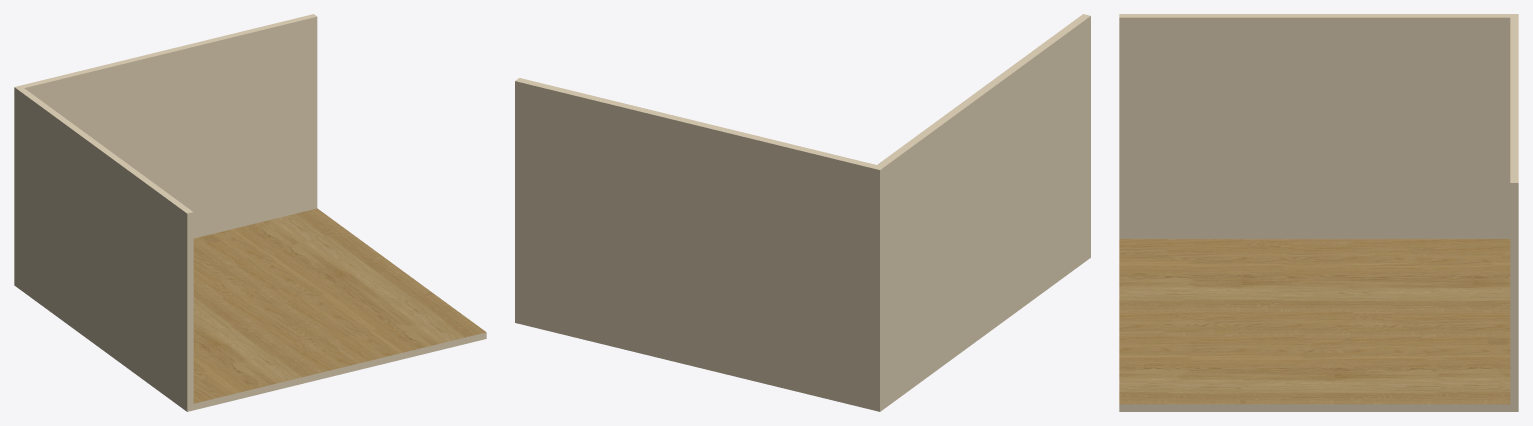
The model's file is LivingRoom.glb.
The picture shows the model from 3 angles, left to right: view 1: azimuth 30°, elevation 25°; view 2: azimuth 150°, elevation 25°; view 3: azimuth 270°, elevation 25°; orthographic projection. The views are drawn at different scales.
Visible parts, largest first — view 1: Room; view 2: Room; view 3: Room.
Boxes of the visible parts, <box> form: Room: <box>14,14,486,411</box>; Room: <box>515,14,1090,411</box>; Room: <box>1119,14,1518,411</box>.
Size of the model in its own units: 8.17 by 5.17 by 8.17.
Materials: 2 (1 with a texture image).
